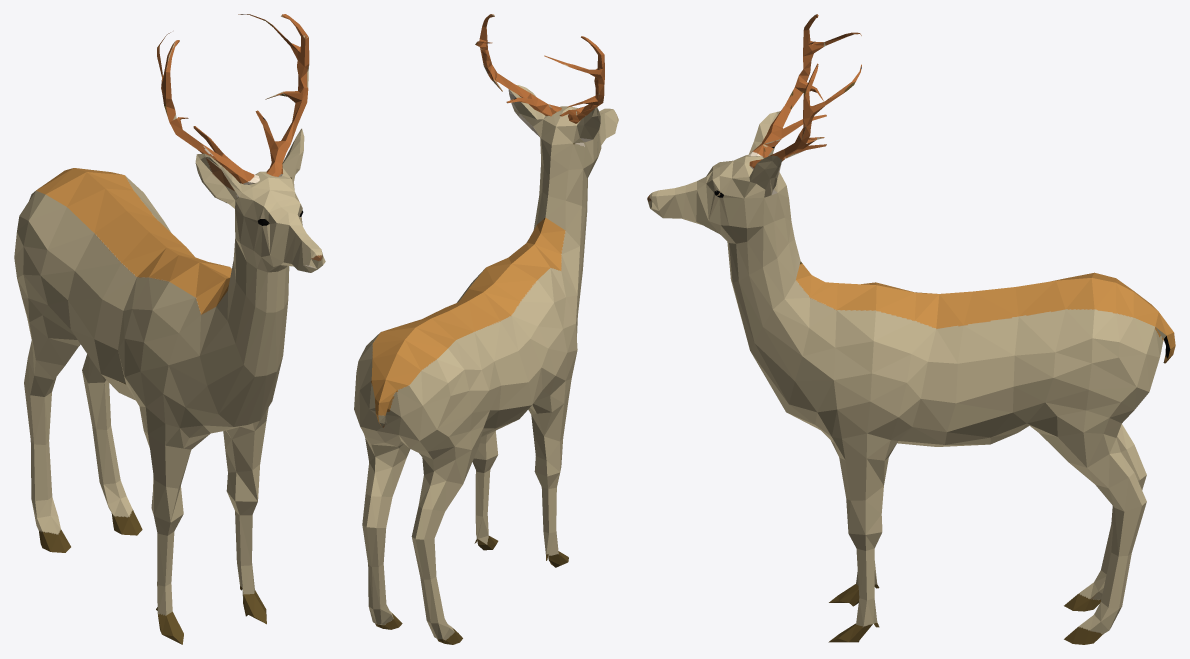
Rendered from deer.obj.
The picture shows the model from 3 angles, left to right: view 1: azimuth 30°, elevation 25°; view 2: azimuth 150°, elevation 25°; view 3: azimuth 270°, elevation 25°; orthographic projection. The views are drawn at different scales.
Visible parts, largest first — view 1: Body, Head, UFR, LBR, LBL, UFL, UBR, LFR, LFL; view 2: Body, Head, UFR, UBR, UBL, LBR, LBL, LFR, LFL, UFL; view 3: Body, Head, UFL, UBL, LBL, LFL, LBR.
Part boxes in pixels (box(x1,y1,x2,y2)): Body: box(14, 168, 282, 437); Head: box(157, 14, 325, 376); UFR: box(139, 406, 209, 535); LBR: box(24, 383, 70, 552); LBL: box(82, 371, 142, 535); UFL: box(223, 407, 268, 515); UBR: box(24, 319, 78, 396); LFR: box(156, 531, 183, 644); LFL: box(235, 511, 266, 624); Body: box(354, 217, 582, 470); Head: box(475, 14, 618, 270); UFR: box(528, 379, 571, 489); UBR: box(411, 447, 478, 539); UBL: box(362, 438, 410, 527); LBR: box(412, 537, 462, 644); LBL: box(362, 525, 402, 629); LFR: box(541, 487, 568, 567); LFL: box(474, 470, 498, 550); UFL: box(472, 430, 498, 472); Body: box(750, 261, 1175, 446); Head: box(647, 14, 861, 350); UFL: box(831, 433, 897, 550); UBL: box(1039, 432, 1146, 511); LBL: box(1064, 502, 1146, 644); LFL: box(828, 548, 879, 642); LBR: box(1064, 475, 1146, 611).
Bounding box in the file's own units: 3.4 × 13.72 × 11.26.
Materials: 1 (1 with a texture image).
